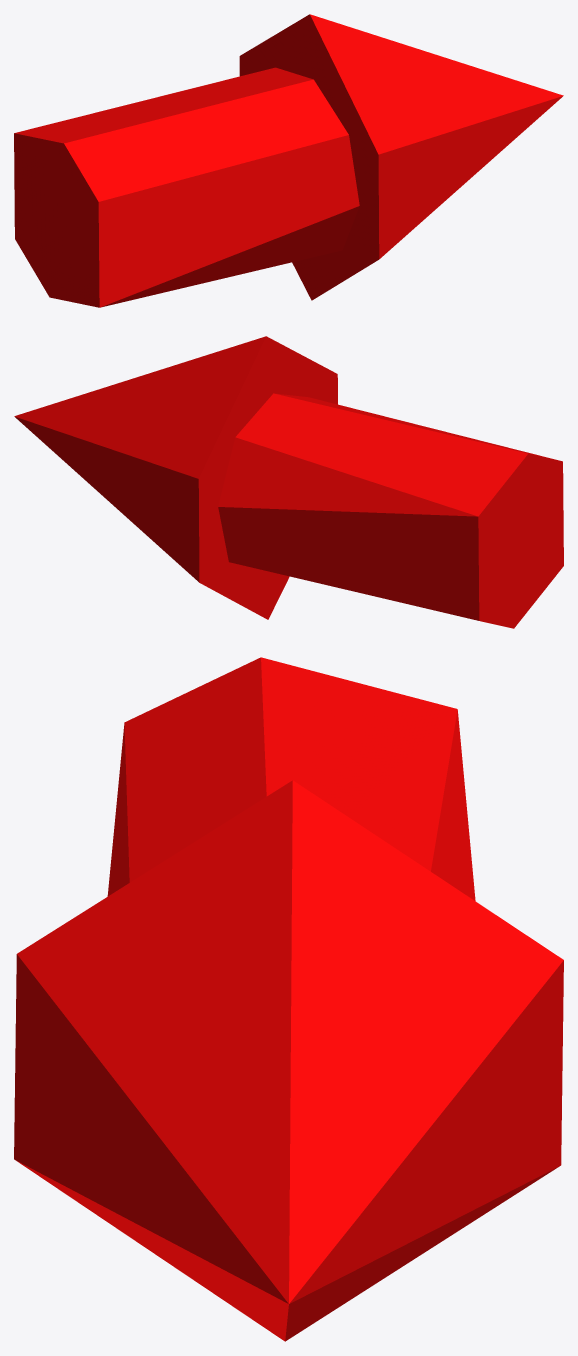
The model's file is resizingArrow.glb.
The picture shows the model from 3 angles, top to bottom: view 1: azimuth 30°, elevation 25°; view 2: azimuth 150°, elevation 25°; view 3: azimuth 270°, elevation 25°; orthographic projection. The views are drawn at different scales.
Visible parts, largest first — view 1: Cylinder; view 2: Cylinder; view 3: Cylinder.
Part boxes in pixels (x1,y1,x2,y2): Cylinder: (14,14,563,307); Cylinder: (14,336,563,628); Cylinder: (14,657,563,1341).
Size of the model in its own units: 1.4 by 0.7517 by 0.6673.
